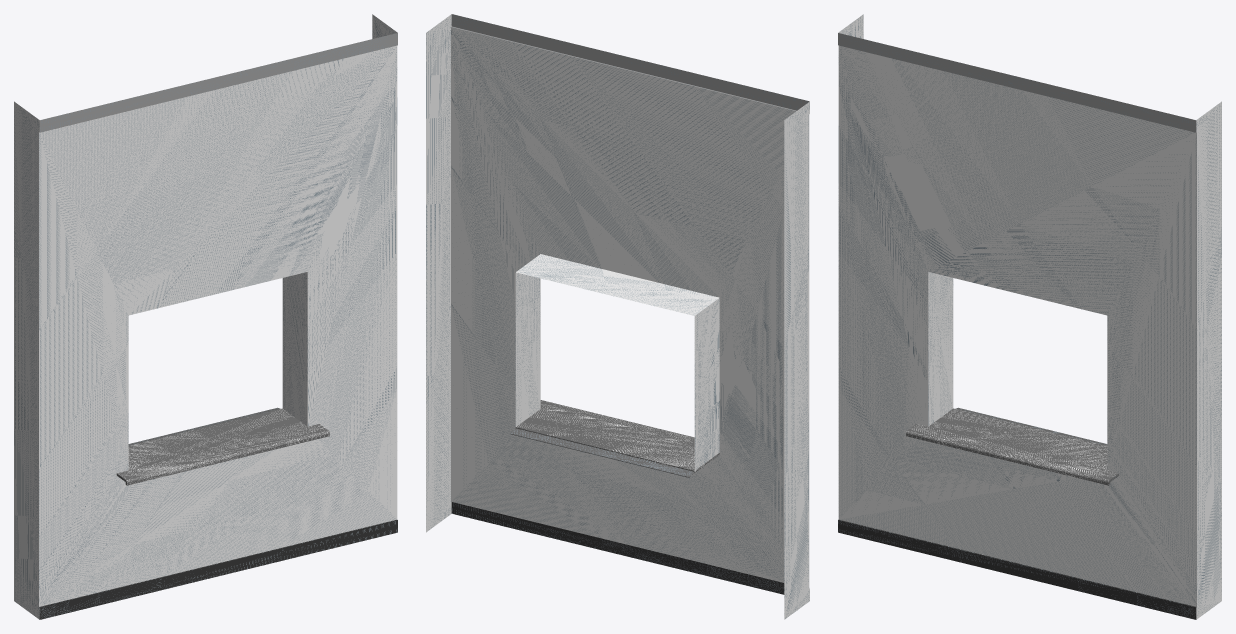
The model's file is WindowBlock_os_plinth_[300x400]_150x124x[100].dae.
The picture shows the model from 3 angles, left to right: view 1: azimuth 30°, elevation 25°; view 2: azimuth 150°, elevation 25°; view 3: azimuth 330°, elevation 25°; orthographic projection.
Parts seen in each view (by area): view 1: group_1 (×4), group_2; view 2: group_1 (×4), group_2 (×2); view 3: group_1 (×4), group_2.
Part boxes in pixels (box(x1,y1,x2,y2)): group_1 (×4): box(14, 14, 397, 619); group_2: box(116, 408, 329, 485); group_1 (×4): box(426, 14, 809, 619); group_2 (×2): box(511, 400, 719, 477); group_1 (×4): box(838, 14, 1221, 619); group_2: box(906, 408, 1118, 485).
Size of the model in its own units: 118 by 23.03 by 157.
